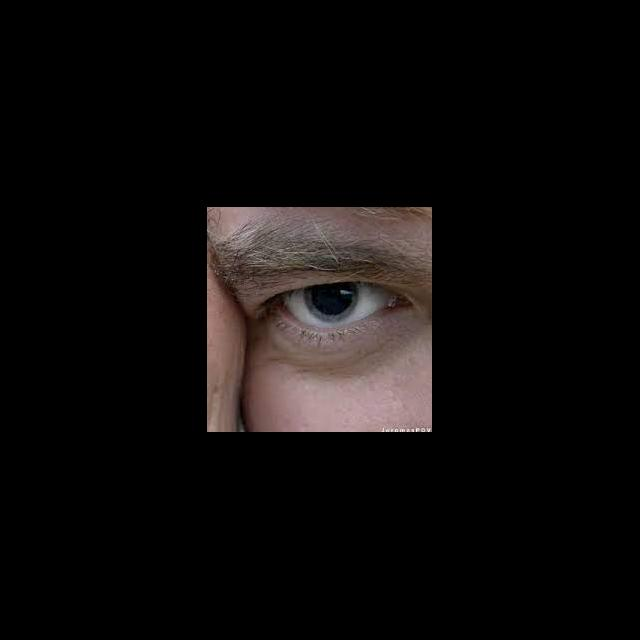eye: (279, 282, 390, 329)
iris: (303, 283, 360, 323)
